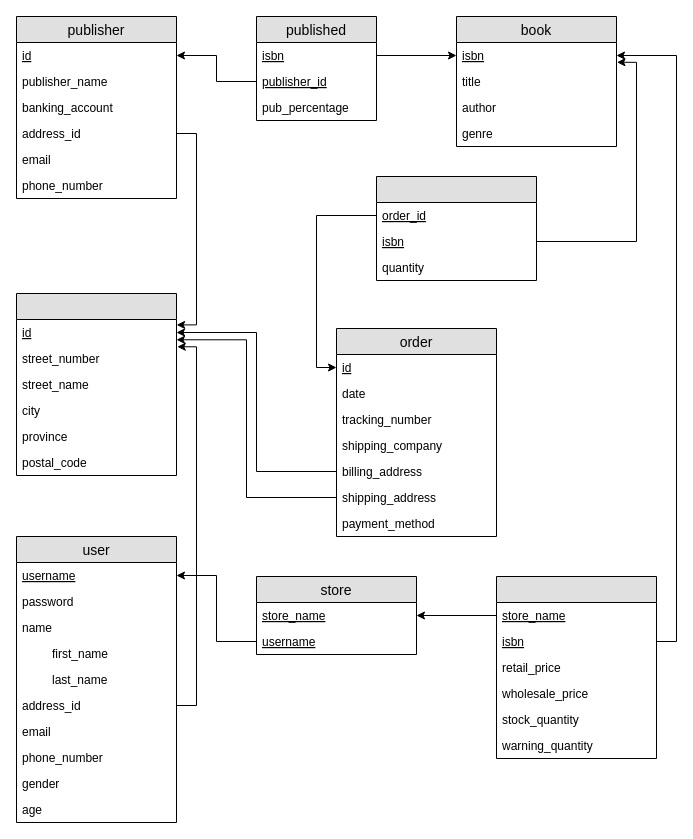
The diagram is 693 pixels wide and 839 high, and some of its shapes have lost their labels. The shapes that lost their labels are listed below. From the top down, each one's box as (x1, y1, x2, y2) in pixels, then its label:
(376, 176, 536, 280): order_book
(16, 292, 176, 476): address
(496, 576, 656, 758): store_books
